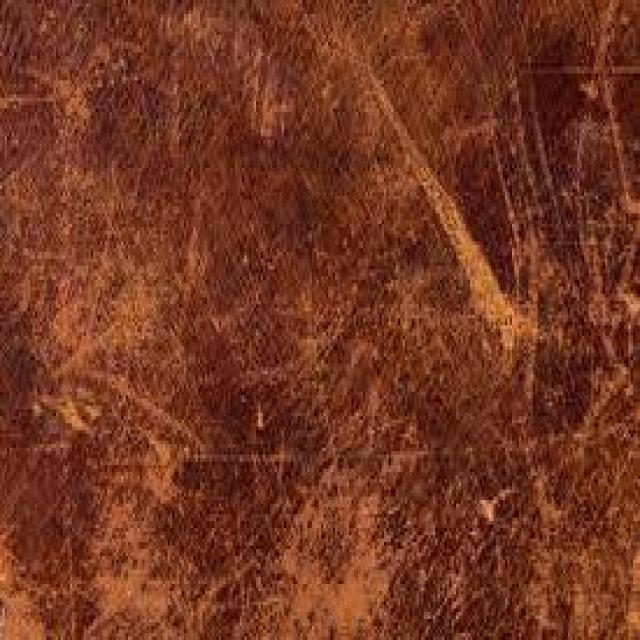Rotten surface: (44, 213, 205, 432), (268, 427, 422, 635), (415, 145, 539, 370)
